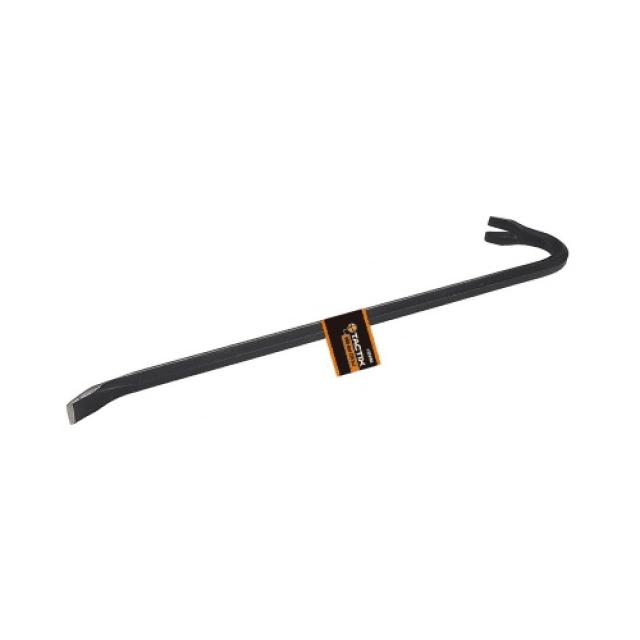Linggis: (66, 219, 573, 429)
